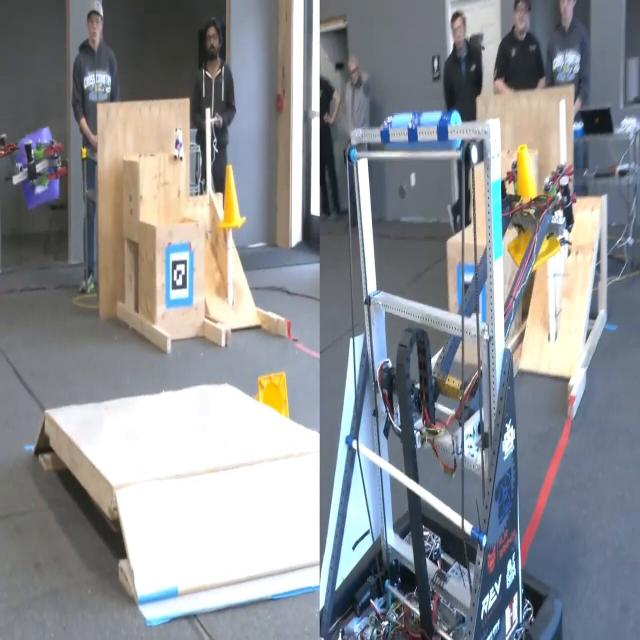frc_cone: (509, 142, 558, 264), (250, 370, 290, 422), (220, 160, 245, 237)
frc_cube: (17, 130, 62, 206)
